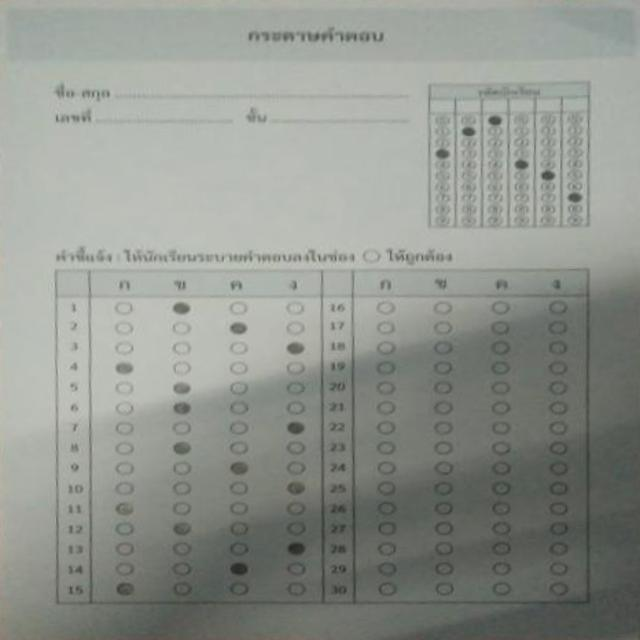choice: (50, 264, 597, 608)
id: (420, 77, 597, 235)
